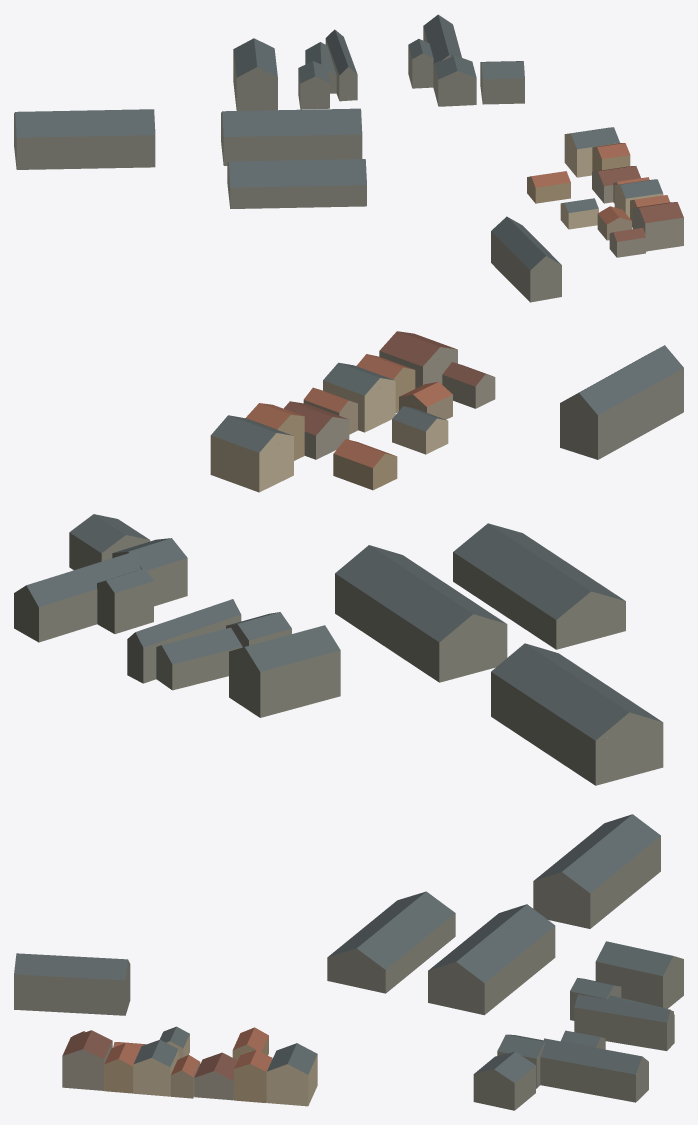
3 views of the same model, one above another, from view 1: azimuth 30°, elevation 25°; view 2: azimuth 150°, elevation 25°; view 3: azimuth 270°, elevation 25° (orthographic). The views are drawn at different scales.
Parts seen in each view (by area): view 1: C_-4_4; view 2: C_-4_4; view 3: C_-4_4.
Boxes of the visible parts, left/top/right/bottom form: C_-4_4: left=14, top=14, right=683, bottom=302; C_-4_4: left=14, top=331, right=683, bottom=785; C_-4_4: left=14, top=814, right=683, bottom=1110.
Size of the model in its own units: 177 by 16.71 by 199.
